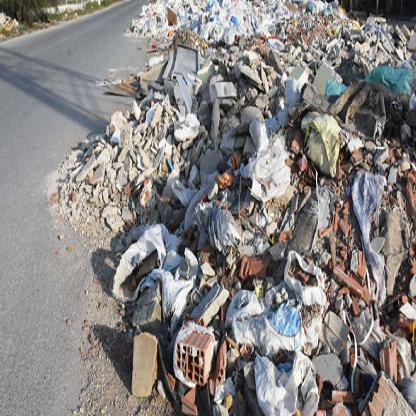Garbage: (362, 66, 410, 93), (323, 75, 344, 101), (147, 54, 166, 68), (230, 15, 240, 29), (152, 42, 158, 50)
